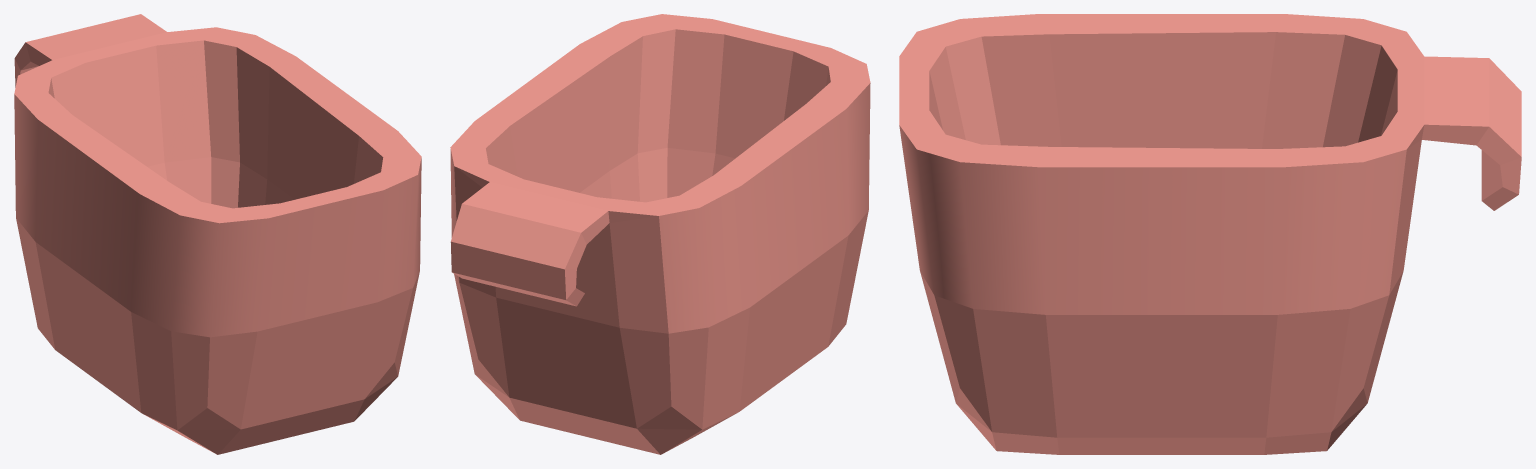
Rendered from PlantPot_36.fbx.
The picture shows the model from 3 angles, left to right: view 1: azimuth 30°, elevation 25°; view 2: azimuth 150°, elevation 25°; view 3: azimuth 270°, elevation 25°; orthographic projection. The views are drawn at different scales.
Parts seen in each view (by area): view 1: PlantPot_36; view 2: PlantPot_36; view 3: PlantPot_36.
Boxes of the visible parts, x1=… form: PlantPot_36: x1=14, y1=14, x2=421, y2=454; PlantPot_36: x1=450, y1=14, x2=870, y2=454; PlantPot_36: x1=899, y1=14, x2=1521, y2=454.
Bounding box in the file's own units: 22.98 × 21.47 × 37.85.
